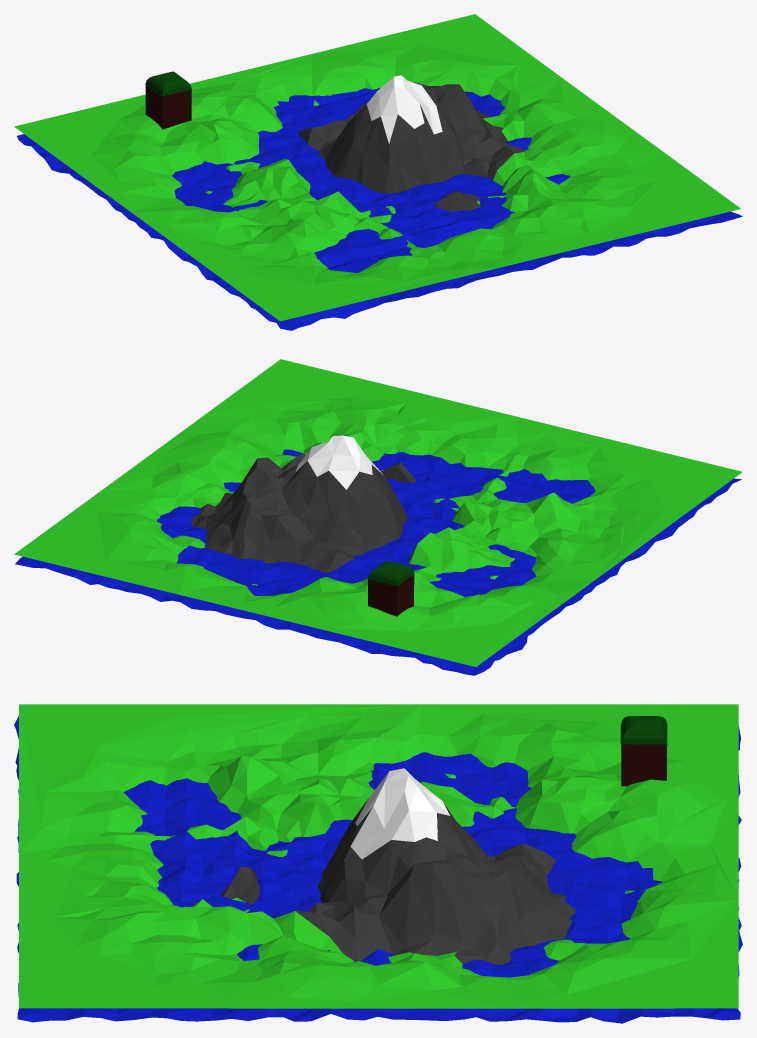
File: Stage2.obj
3 renders of one model, top to bottom at view 1: azimuth 30°, elevation 25°; view 2: azimuth 150°, elevation 25°; view 3: azimuth 270°, elevation 25°, orthographic. The views are drawn at different scales.
Visible parts, largest first — view 1: Landscape, Landscape_plane, 立方体; view 2: Landscape, Landscape_plane, 立方体; view 3: Landscape, Landscape_plane, 立方体.
Part boxes in pixels (x1=…): Landscape: x1=14, y1=14, x2=740, y2=321; Landscape_plane: x1=17, y1=87, x2=742, y2=330; 立方体: x1=145, y1=71, x2=191, y2=129; Landscape: x1=14, y1=359, x2=742, y2=666; Landscape_plane: x1=15, y1=449, x2=741, y2=675; 立方体: x1=367, y1=561, x2=414, y2=616; Landscape: x1=19, y1=704, x2=738, y2=1008; Landscape_plane: x1=14, y1=716, x2=742, y2=1023; 立方体: x1=620, y1=716, x2=667, y2=786.
Size of the model in its own units: 244 by 51.24 by 243.
